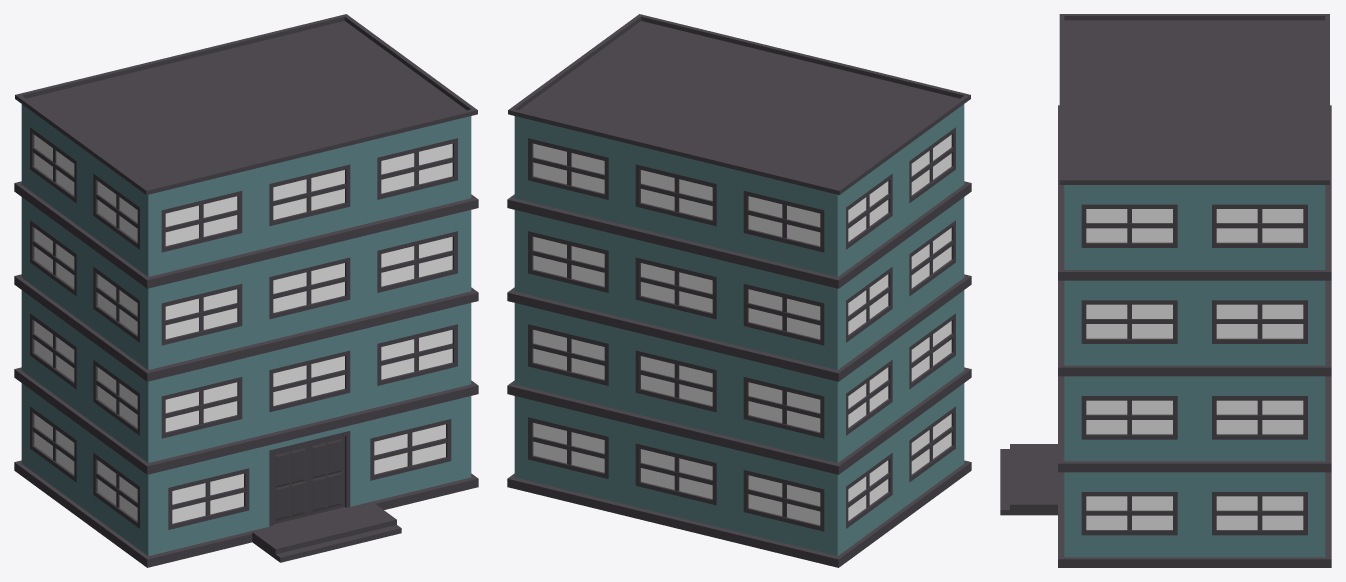
File: small apartment 2.fbx
3 views of the same model, side by side, from view 1: azimuth 30°, elevation 25°; view 2: azimuth 150°, elevation 25°; view 3: azimuth 270°, elevation 25° (orthographic). The views are drawn at different scales.
Parts seen in each view (by area): view 1: building_001; view 2: building_001; view 3: building_001.
Part boxes in pixels (x1,y1,x2,y2): building_001: (14,14,478,567); building_001: (507,14,971,567); building_001: (1000,14,1331,567).
Size of the model in its own units: 820 by 890 by 690.
